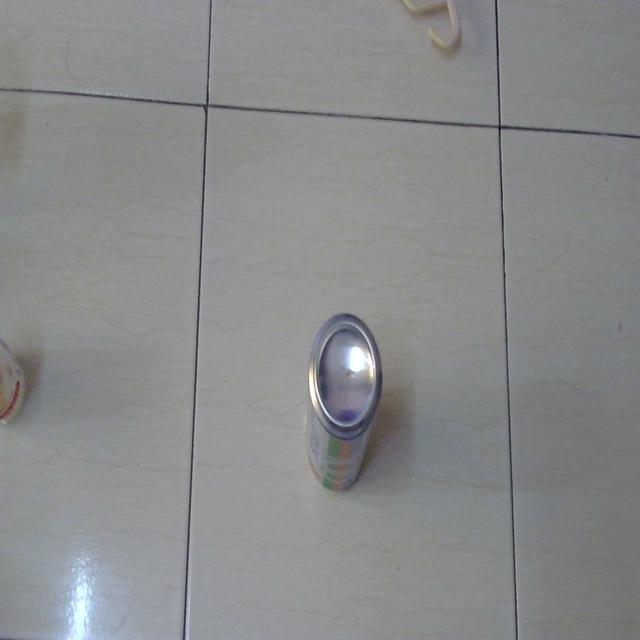metal_standrotation: (297, 302, 387, 495)
